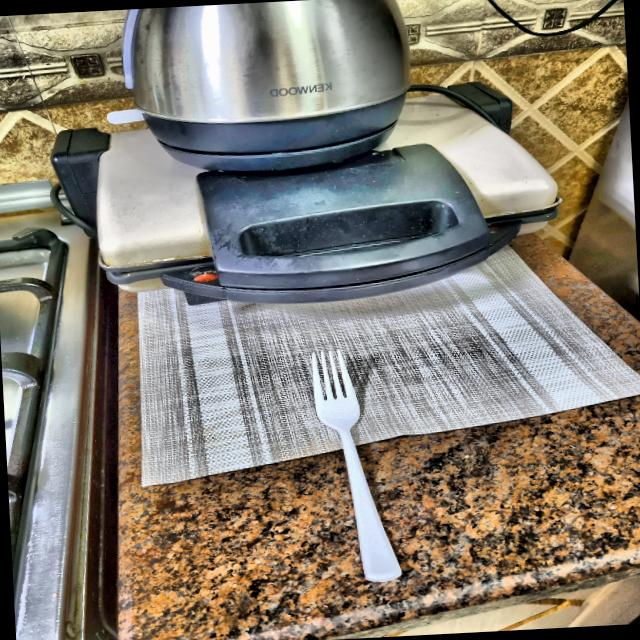plastic utensil: (304, 346, 401, 585)
